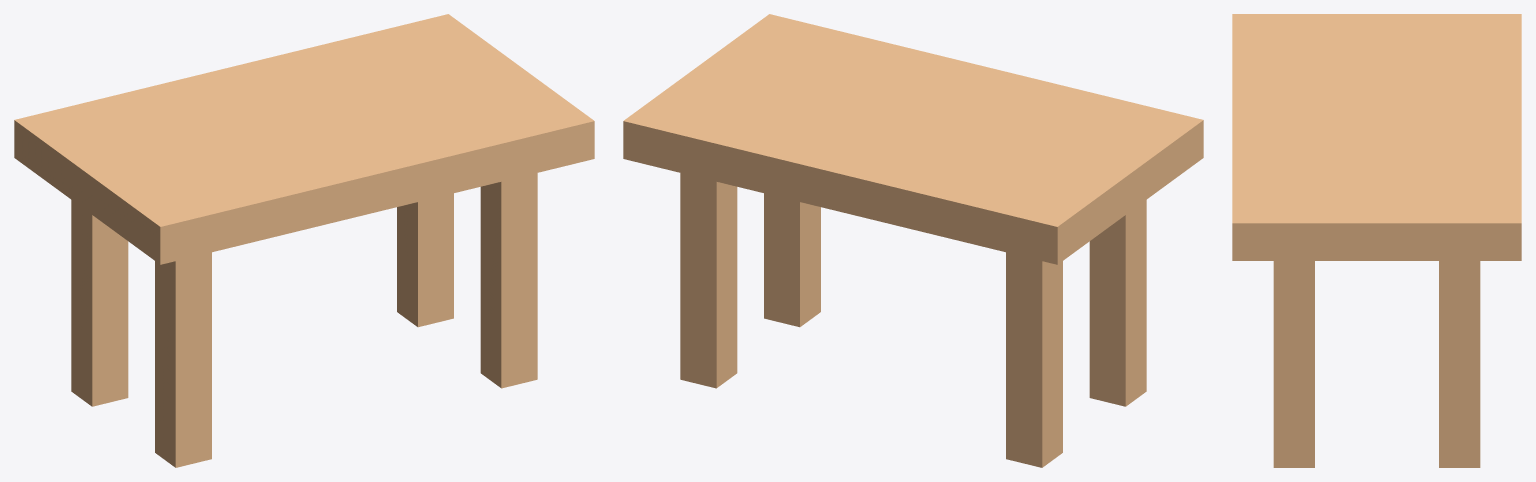
Rendered from dice_2og-0.obj.
The picture shows the model from 3 angles, left to right: view 1: azimuth 30°, elevation 25°; view 2: azimuth 150°, elevation 25°; view 3: azimuth 270°, elevation 25°; orthographic projection.
Bounding box in the file's own units: 1.2 × 0.7 × 0.7.
1 material, 1 textured.
